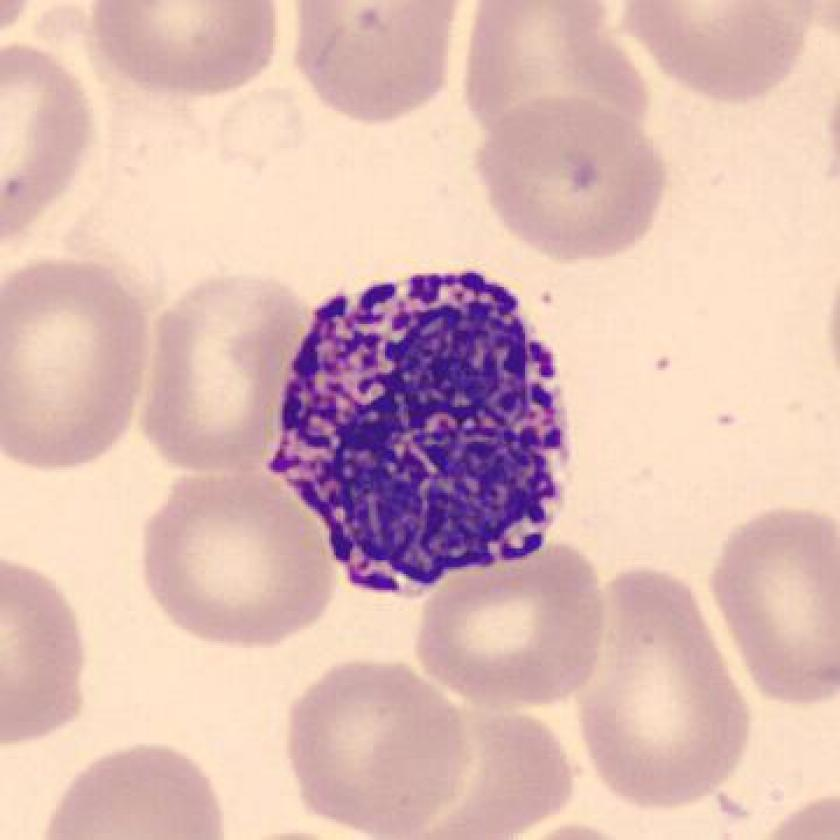basophil: (272, 265, 587, 586)
